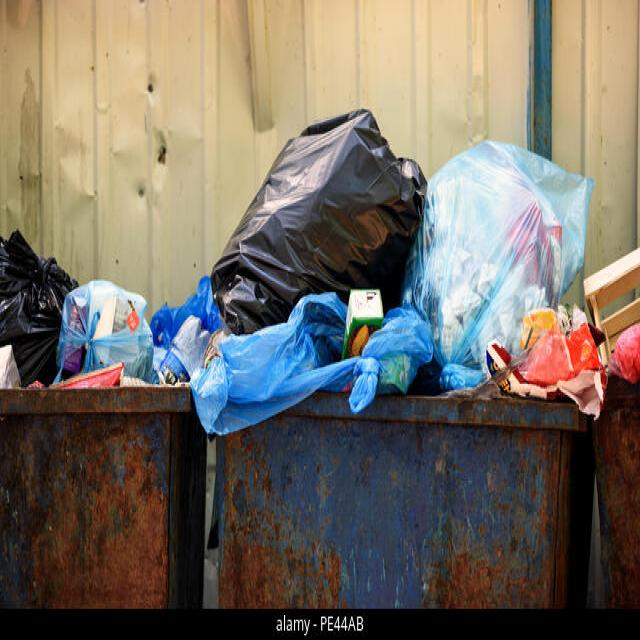trash: (256, 153, 380, 286), (441, 181, 544, 333), (7, 258, 60, 359)
